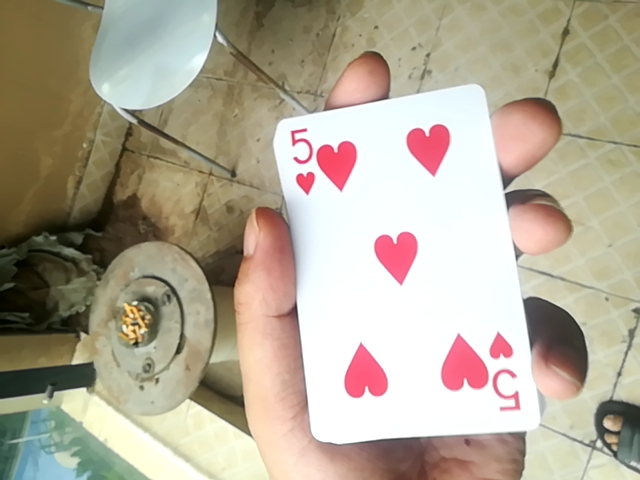hx 5: (277, 91, 539, 441)
